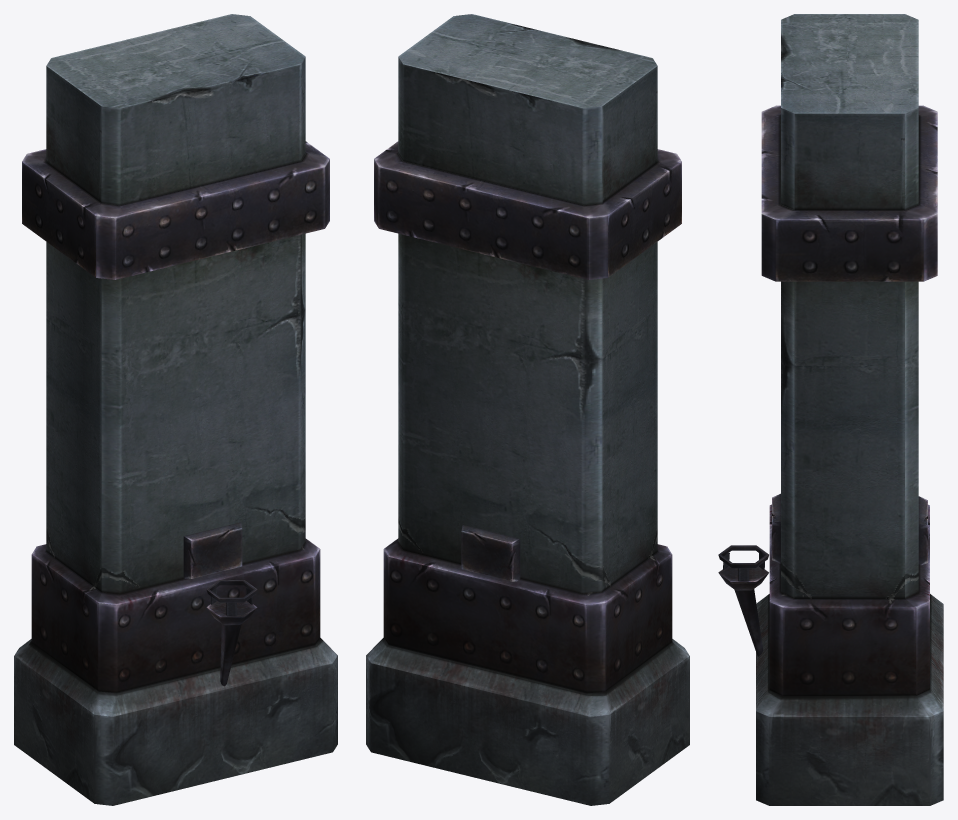
The model's file is B_shikuai011.fbx.
The picture shows the model from 3 angles, left to right: view 1: azimuth 30°, elevation 25°; view 2: azimuth 150°, elevation 25°; view 3: azimuth 270°, elevation 25°; orthographic projection.
Visible parts, largest first — view 1: B_shikuai011; view 2: B_shikuai011; view 3: B_shikuai011.
Part boxes in pixels (left/top/right/bottom): B_shikuai011: left=14, top=14, right=337, bottom=805; B_shikuai011: left=366, top=14, right=689, bottom=805; B_shikuai011: left=718, top=14, right=943, bottom=805.
Bounding box in the file's own units: 172 × 461 × 138.
